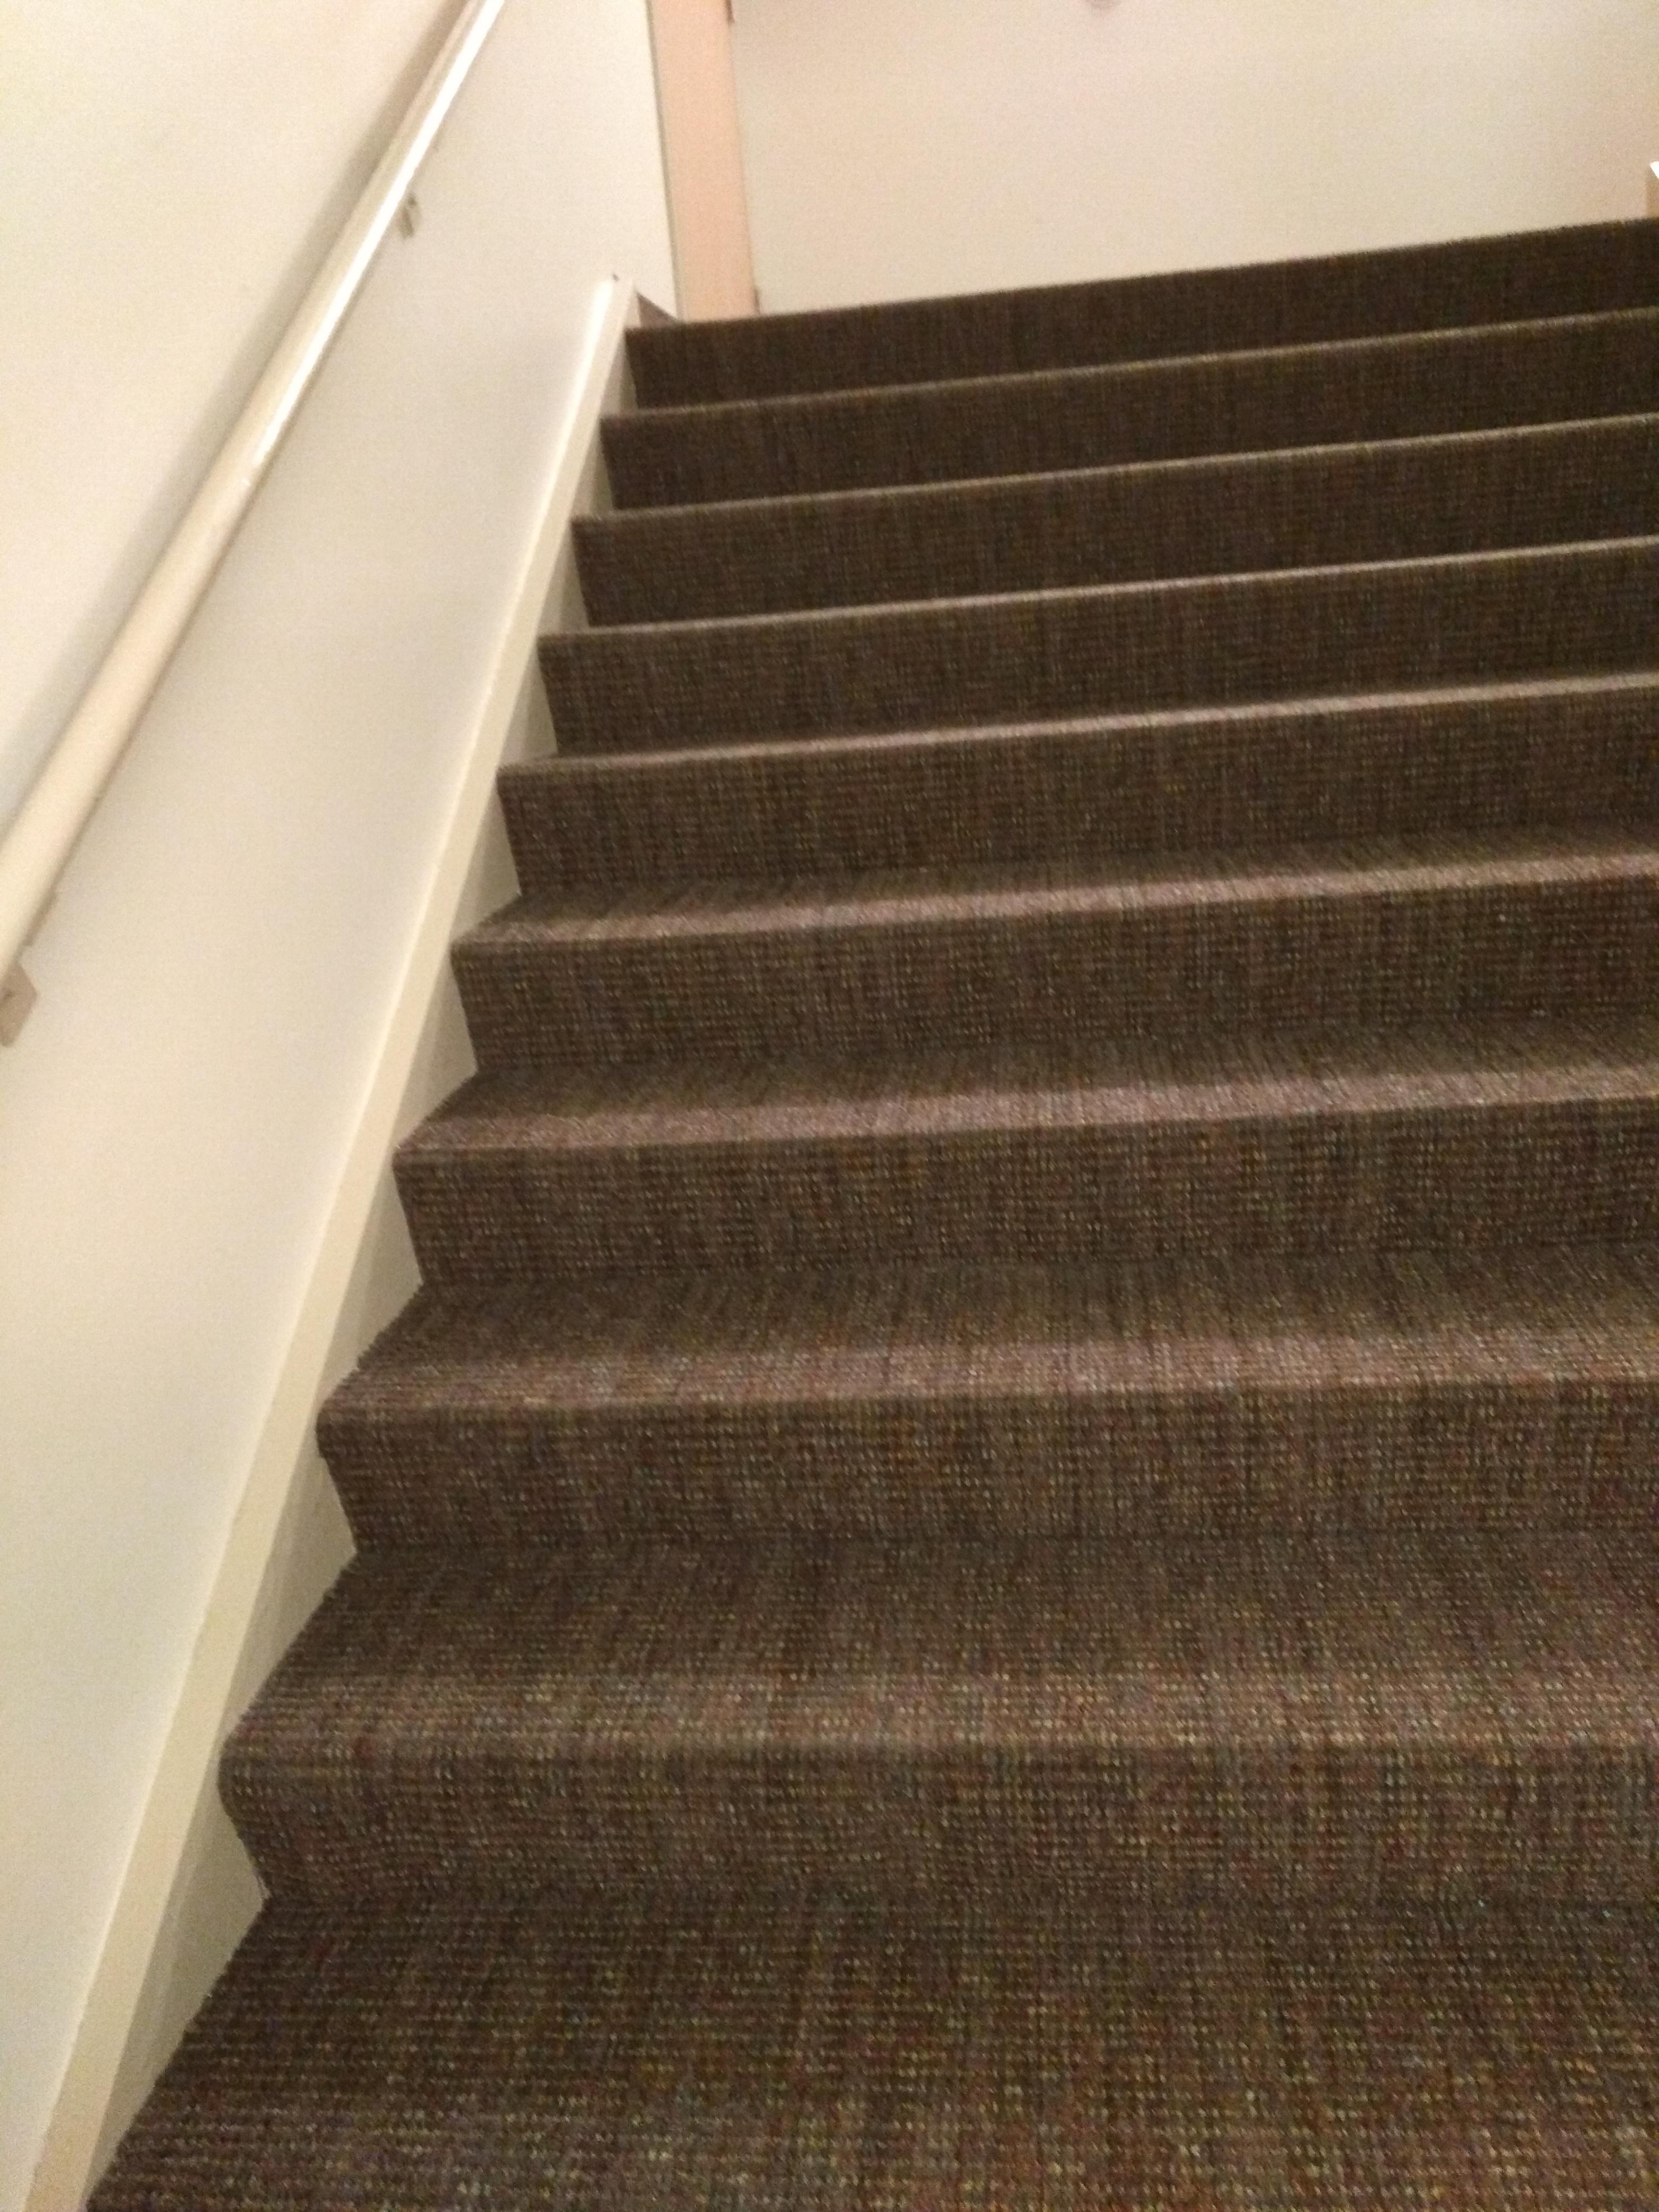stairs_up: (181, 193, 1659, 1933)
